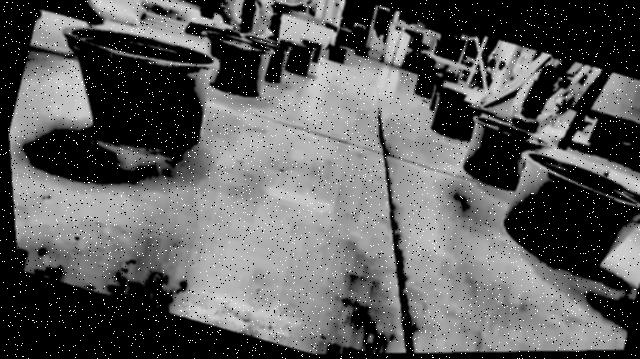pot: (63, 25, 218, 146), (504, 150, 640, 271), (202, 30, 316, 95), (463, 114, 553, 189), (431, 85, 486, 140)
